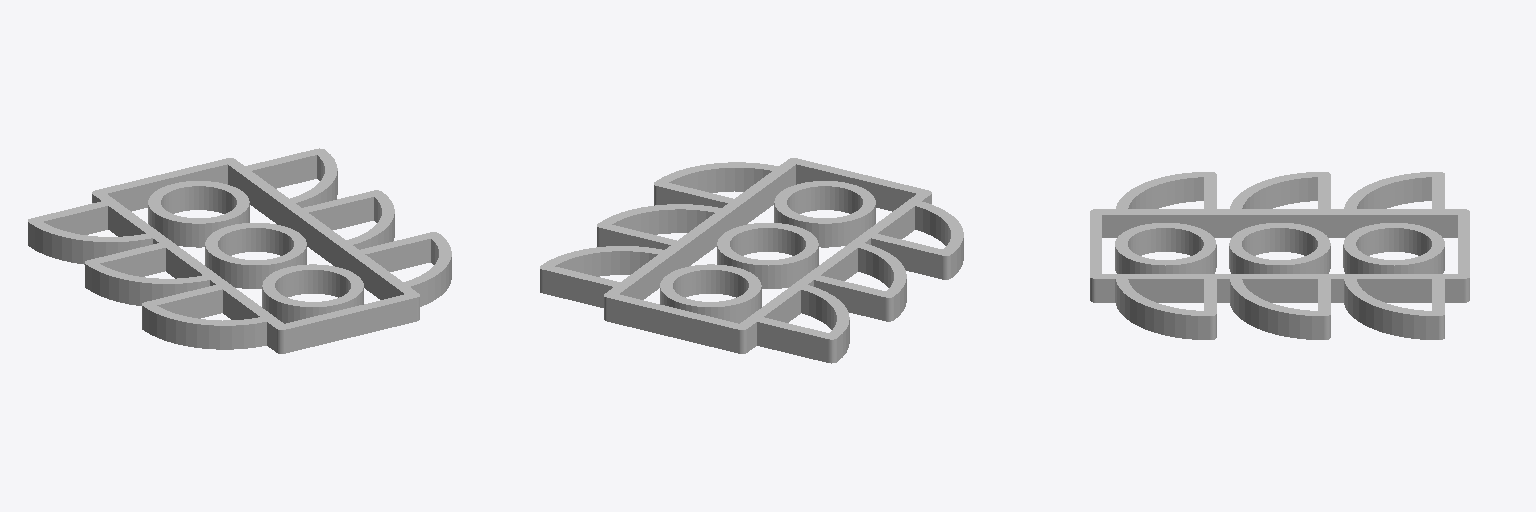
The model's file is traffic lights.obj.
3 renders of one model, left to right at view 1: azimuth 30°, elevation 25°; view 2: azimuth 150°, elevation 25°; view 3: azimuth 270°, elevation 25°, orthographic.
Visible parts, largest first — view 1: Curve.005_Curve.011, Curve_Curve.008, Curve.001_Curve.009, Curve.002_Curve.010; view 2: Curve.005_Curve.011, Curve.002_Curve.010, Curve.001_Curve.009, Curve_Curve.008; view 3: Curve.005_Curve.011, Curve.002_Curve.010, Curve_Curve.008, Curve.001_Curve.009.
Boxes of the visible parts, x1=… form: Curve.005_Curve.011: x1=28, y1=148, x2=451, y2=353; Curve_Curve.008: x1=148, y1=181, x2=249, y2=247; Curve.001_Curve.009: x1=205, y1=223, x2=306, y2=288; Curve.002_Curve.010: x1=262, y1=264, x2=363, y2=323; Curve.005_Curve.011: x1=540, y1=158, x2=963, y2=363; Curve.002_Curve.010: x1=774, y1=181, x2=875, y2=247; Curve.001_Curve.009: x1=717, y1=223, x2=818, y2=288; Curve_Curve.008: x1=660, y1=264, x2=761, y2=323; Curve.005_Curve.011: x1=1090, y1=172, x2=1469, y2=339; Curve.002_Curve.010: x1=1115, y1=223, x2=1216, y2=273; Curve_Curve.008: x1=1343, y1=223, x2=1444, y2=273; Curve.001_Curve.009: x1=1229, y1=223, x2=1330, y2=273.
Bounding box in the file's own units: 13.01 × 1 × 14.45.